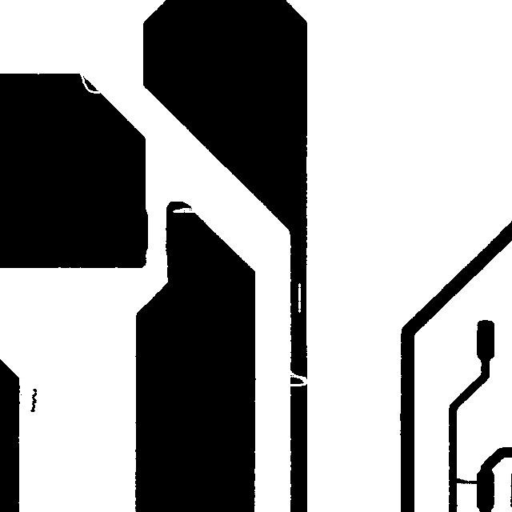copper: (22, 381, 44, 419)
mousebite: (72, 65, 108, 101), (165, 200, 207, 220)
open: (279, 362, 314, 394)
pin-hole: (290, 275, 308, 320)
short: (445, 470, 486, 491)
